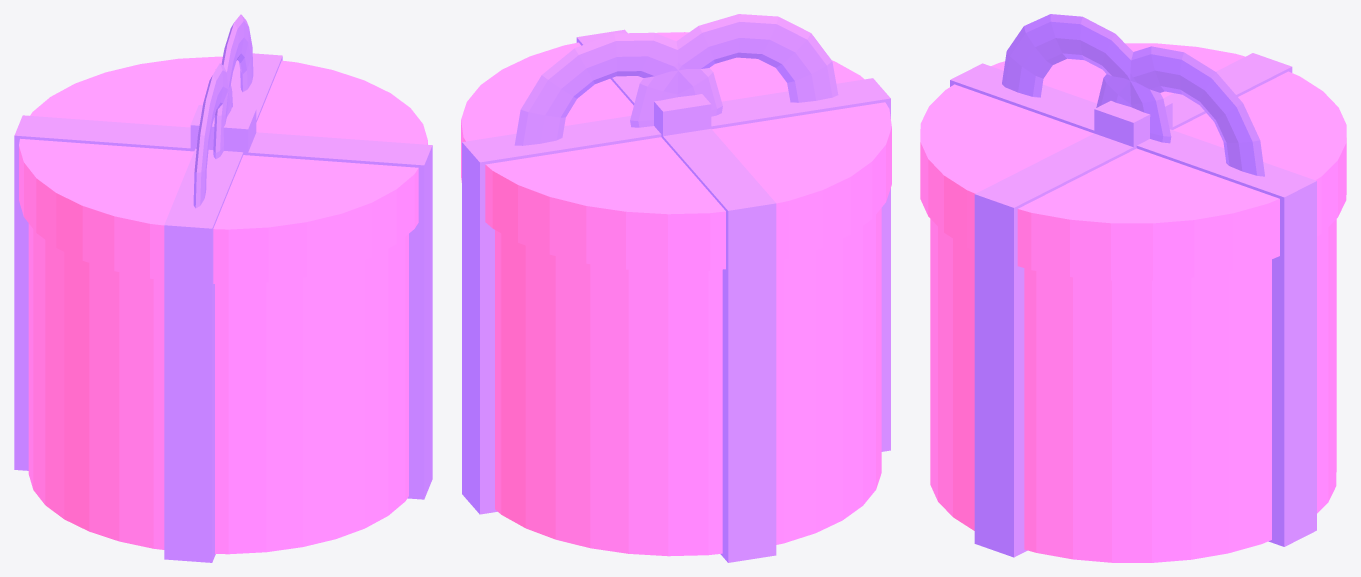
Rendered from Tmpl_Round_Root_206.glb.
3 renders of one model, left to right at view 1: azimuth 30°, elevation 25°; view 2: azimuth 150°, elevation 25°; view 3: azimuth 270°, elevation 25°, orthographic. The views are drawn at different scales.
Visible parts, largest first — view 1: Tmpl_Round_Base.204, Tmpl_Round_Lid.204, Tmpl_Round_Ribbon_X.204, Tmpl_Round_Ribbon_Y.204, Tmpl_Round_BowR.204, Tmpl_Round_BowL.204, Tmpl_Round_BowKnot.204; view 2: Tmpl_Round_Base.204, Tmpl_Round_Lid.204, Tmpl_Round_Ribbon_Y.204, Tmpl_Round_Ribbon_X.204, Tmpl_Round_BowL.204, Tmpl_Round_BowR.204, Tmpl_Round_BowKnot.204; view 3: Tmpl_Round_Base.204, Tmpl_Round_Lid.204, Tmpl_Round_Ribbon_Y.204, Tmpl_Round_Ribbon_X.204, Tmpl_Round_BowL.204, Tmpl_Round_BowR.204, Tmpl_Round_BowKnot.204.
Boxes of the visible parts, x1,y1,x2,y2 form: Tmpl_Round_Base.204: [28, 223, 408, 554]; Tmpl_Round_Lid.204: [19, 56, 427, 284]; Tmpl_Round_Ribbon_X.204: [164, 53, 282, 562]; Tmpl_Round_Ribbon_Y.204: [14, 115, 432, 499]; Tmpl_Round_BowR.204: [213, 14, 253, 158]; Tmpl_Round_BowL.204: [193, 63, 232, 208]; Tmpl_Round_BowKnot.204: [190, 105, 256, 155]; Tmpl_Round_Base.204: [495, 208, 881, 556]; Tmpl_Round_Lid.204: [461, 32, 891, 271]; Tmpl_Round_Ribbon_Y.204: [576, 29, 776, 562]; Tmpl_Round_Ribbon_X.204: [462, 78, 890, 514]; Tmpl_Round_BowL.204: [630, 14, 838, 127]; Tmpl_Round_BowR.204: [514, 32, 722, 145]; Tmpl_Round_BowKnot.204: [654, 94, 711, 138]; Tmpl_Round_Base.204: [930, 219, 1336, 562]; Tmpl_Round_Lid.204: [920, 43, 1346, 280]; Tmpl_Round_Ribbon_Y.204: [974, 53, 1292, 557]; Tmpl_Round_Ribbon_X.204: [950, 63, 1316, 546]; Tmpl_Round_BowL.204: [1002, 14, 1171, 143]; Tmpl_Round_BowR.204: [1096, 46, 1264, 176]; Tmpl_Round_BowKnot.204: [1094, 100, 1172, 146].
Size of the model in its own units: 0.8371 by 0.9651 by 0.8371.
